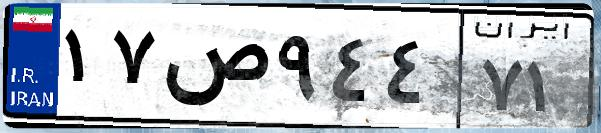1: (57, 26, 110, 100), (525, 38, 570, 115)
4: (385, 28, 445, 110), (330, 28, 385, 110)
7: (475, 38, 525, 113), (110, 28, 158, 98)
9: (270, 28, 330, 110)
ص: (158, 20, 270, 120)
